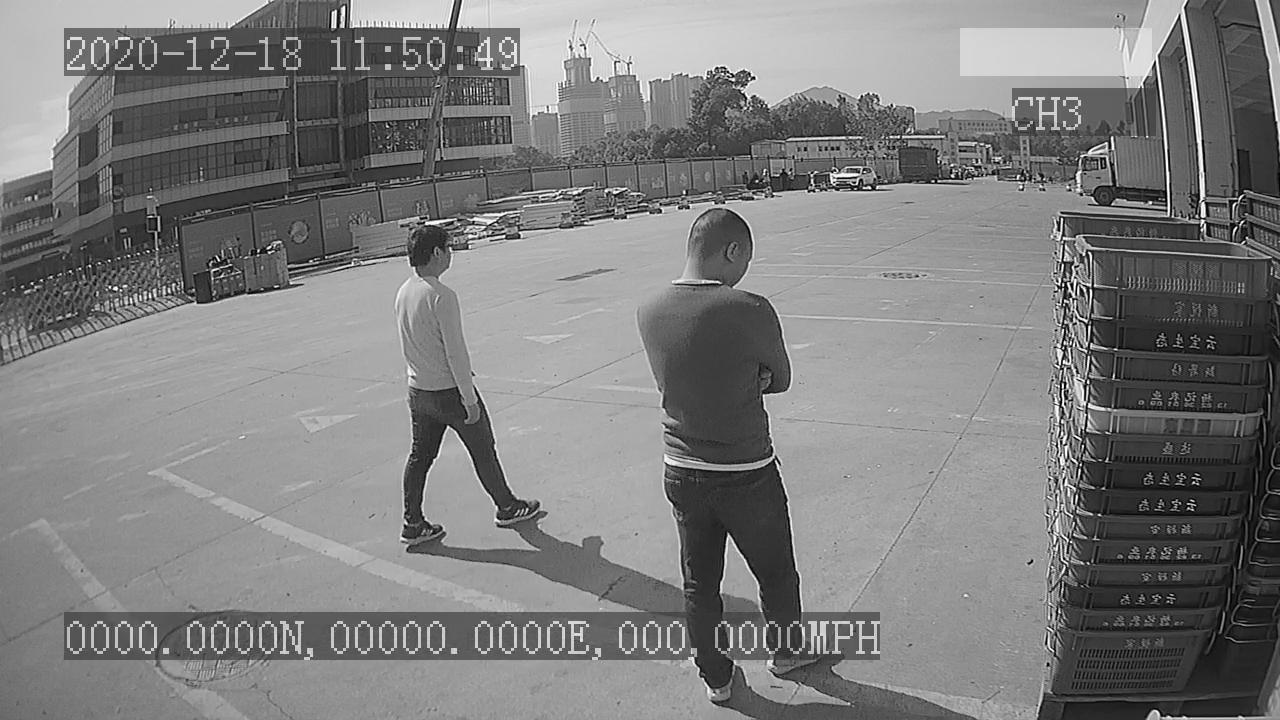person: (388, 217, 547, 547)
